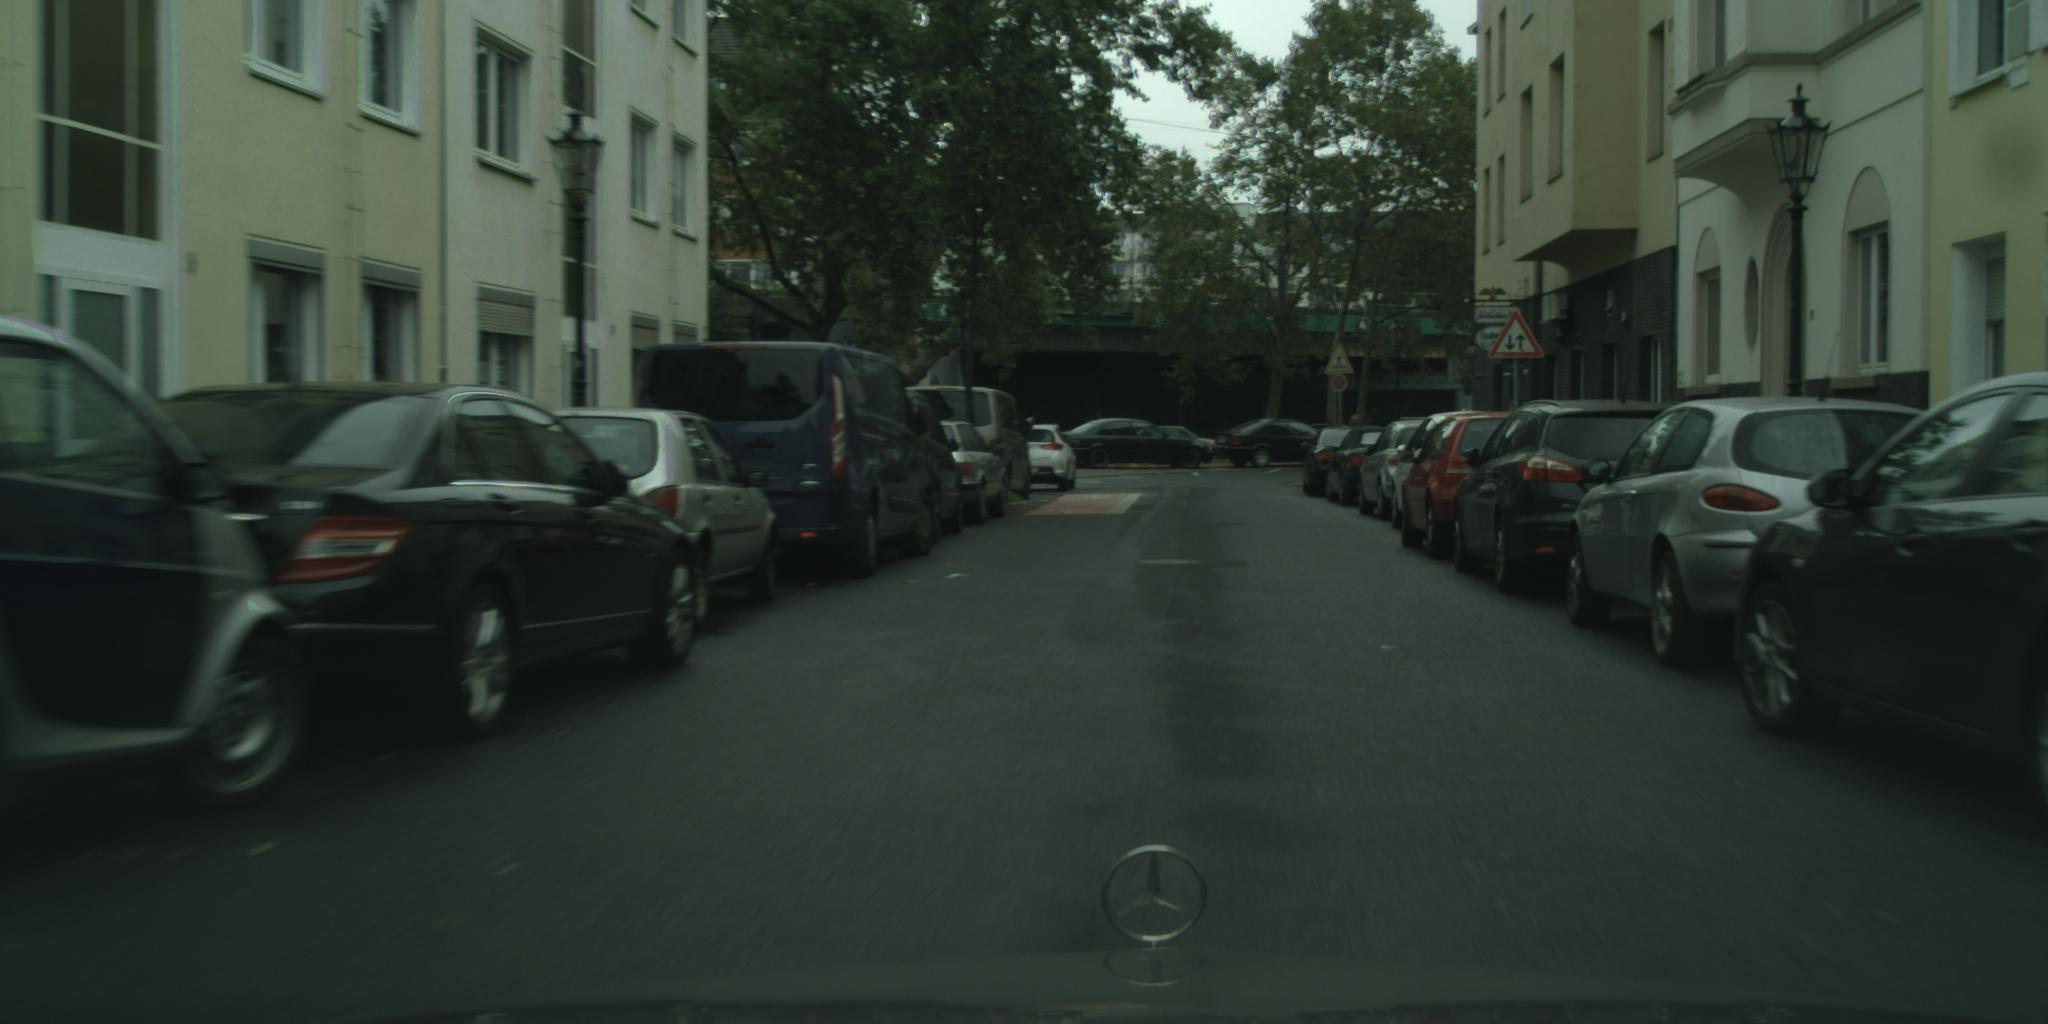car: (140, 383, 699, 748), (1, 312, 308, 827), (1735, 372, 2048, 825), (1567, 397, 1936, 674), (633, 344, 938, 580), (550, 408, 780, 628), (1452, 400, 1684, 596), (1398, 413, 1536, 562), (901, 388, 1034, 503), (1390, 411, 1486, 533), (899, 385, 967, 549), (1358, 419, 1443, 522), (933, 421, 1012, 526), (1061, 419, 1216, 472), (1213, 419, 1324, 470), (1324, 427, 1388, 508), (1015, 423, 1079, 492), (1301, 430, 1361, 499), (1136, 426, 1223, 451)
